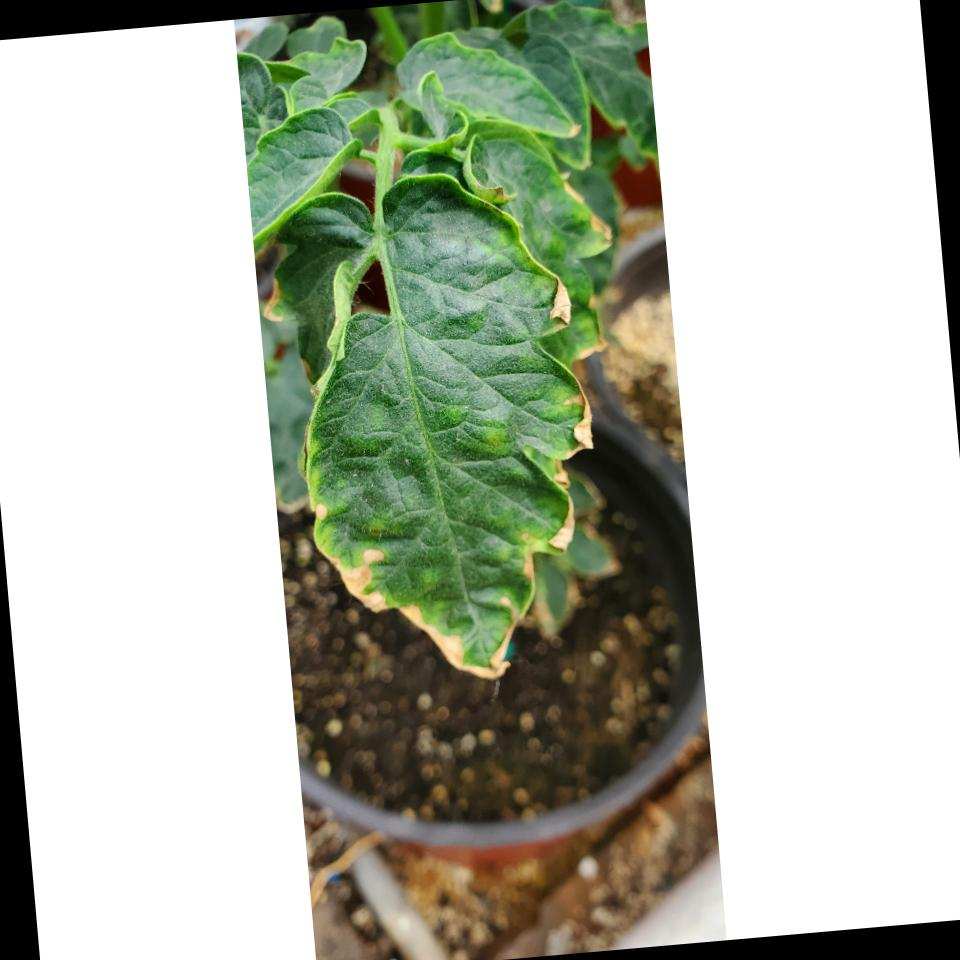tomato_bacterial_blight: (266, 178, 628, 705)
